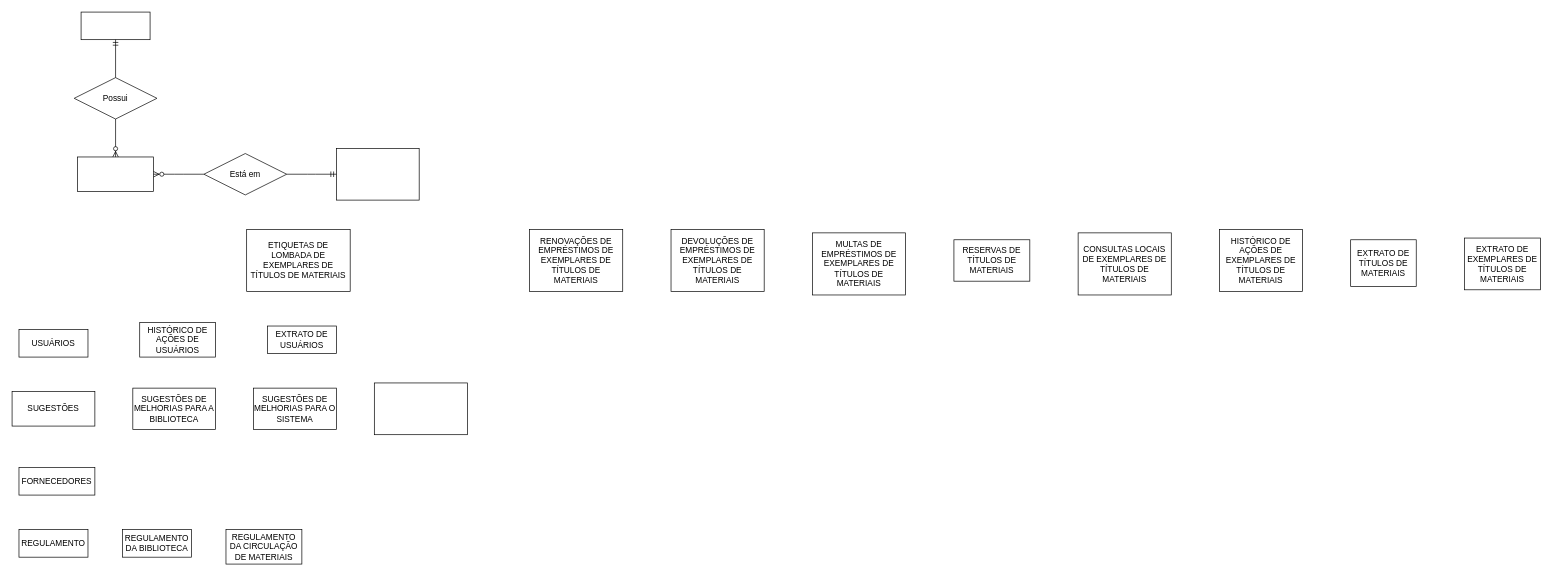
Image size: 1553x576. Some labels were removed from this diagram. Here are the shapes that lost their labels. From the top down, the centre of each, then its label:
pixel 115 25: TÍTULOS DE MATERIAIS
pixel 115 173: EXEMPLARES DE TÍTULOS DE MATERIAIS
pixel 377 174: EMPRÉSTIMOS DE EXEMPLARES DE TÍTULOS DE MATERIAIS
pixel 420 408: SUGESTÕES DE TÍTULOS DE MATERIAIS A SEREM ADQUIRIDOS
